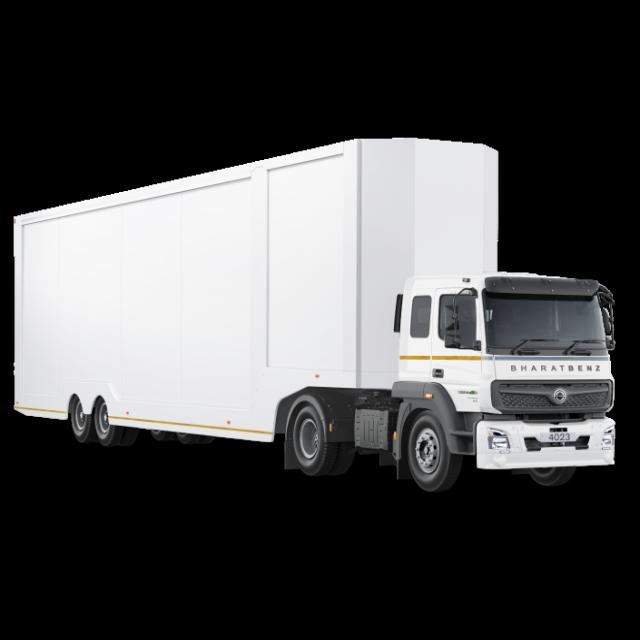truck: (14, 139, 615, 489)
